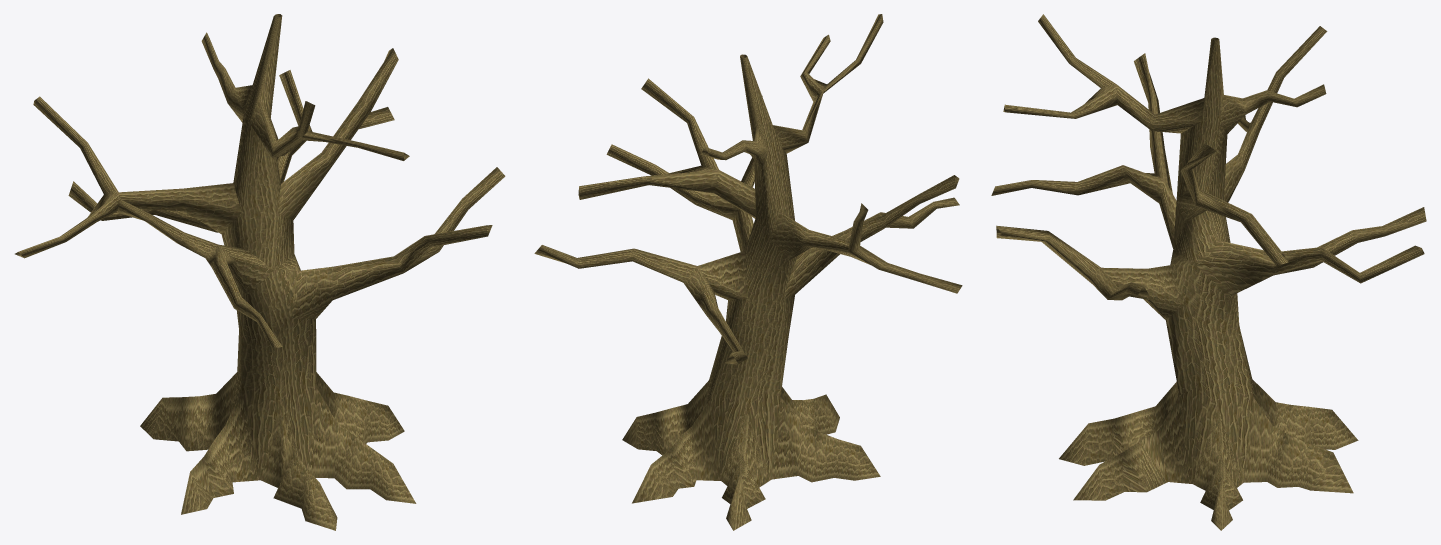
Rendered from RM_TREE_TRUNK.fbx.
3 views of the same model, side by side, from view 1: azimuth 30°, elevation 25°; view 2: azimuth 150°, elevation 25°; view 3: azimuth 270°, elevation 25° (orthographic). The views are drawn at different scales.
Visible parts, largest first — view 1: RM_TREE_TRUNK; view 2: RM_TREE_TRUNK; view 3: RM_TREE_TRUNK.
Part boxes in pixels (<box>): RM_TREE_TRUNK: <box>15,14,505,530</box>; RM_TREE_TRUNK: <box>534,14,962,530</box>; RM_TREE_TRUNK: <box>991,14,1426,530</box>.
Size of the model in its own units: 67727 by 66638 by 60935.
5 materials, 5 textured.
